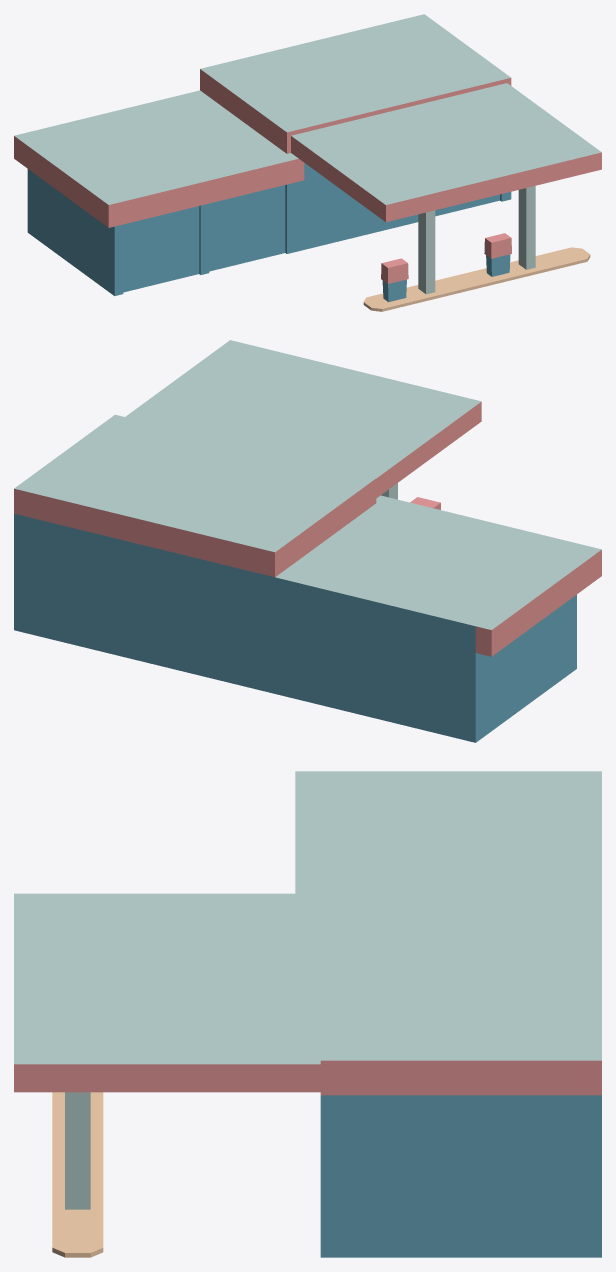
Rendered from gas station.glb.
3 views of the same model, one above another, from view 1: azimuth 30°, elevation 25°; view 2: azimuth 150°, elevation 25°; view 3: azimuth 270°, elevation 25° (orthographic). The views are drawn at different scales.
Parts seen in each view (by area): view 1: building, piller, pump; view 2: building; view 3: building, piller.
Part boxes in pixels (left/top/right/bottom): building: left=14, top=14, right=601, bottom=295; piller: left=363, top=186, right=590, bottom=311; pump: left=381, top=233, right=511, bottom=302; building: left=14, top=340, right=601, bottom=742; building: left=14, top=771, right=601, bottom=1257; piller: left=52, top=1092, right=103, bottom=1257.
Size of what is drawn, in the model's own units: 28.8 by 8.16 by 22.08.
Materials: 1 (1 with a texture image).
